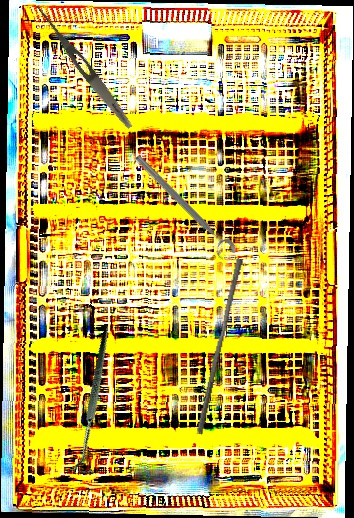Dressing Forceps: (30, 2, 137, 132)
Fixation Ring: (126, 151, 240, 265)
Hook Surgical: (23, 324, 171, 481)
Pusher: (196, 256, 244, 437)
